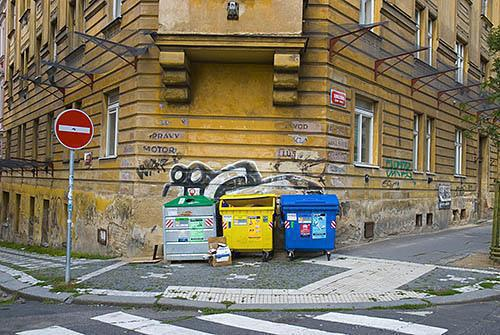Bote de Basura: (164, 191, 217, 264), (219, 194, 275, 263), (280, 200, 336, 257)
